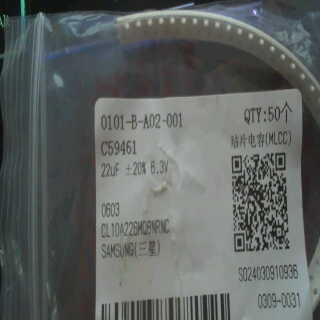22uF: (100, 161, 123, 179)
